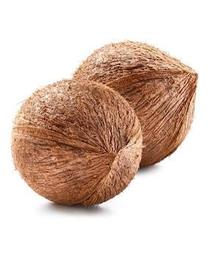coconut: (11, 79, 143, 205), (73, 40, 199, 167)
